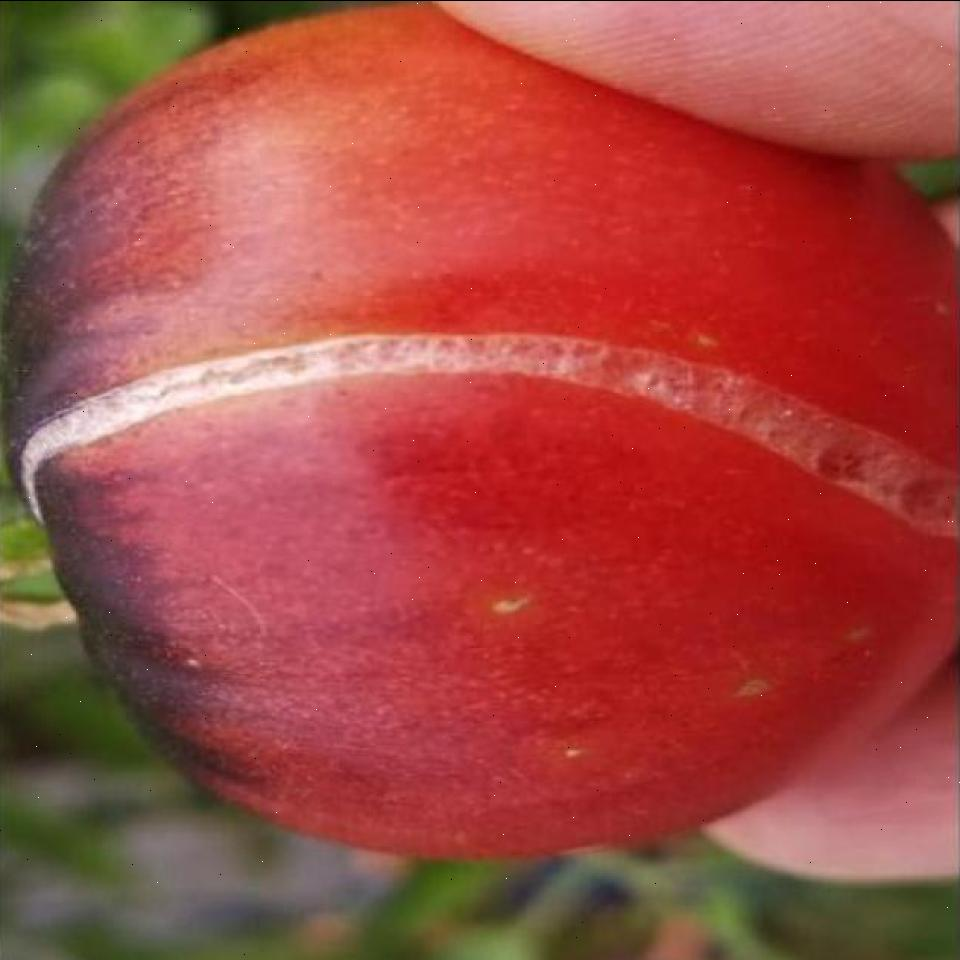Sunscald: (10, 316, 956, 602)
